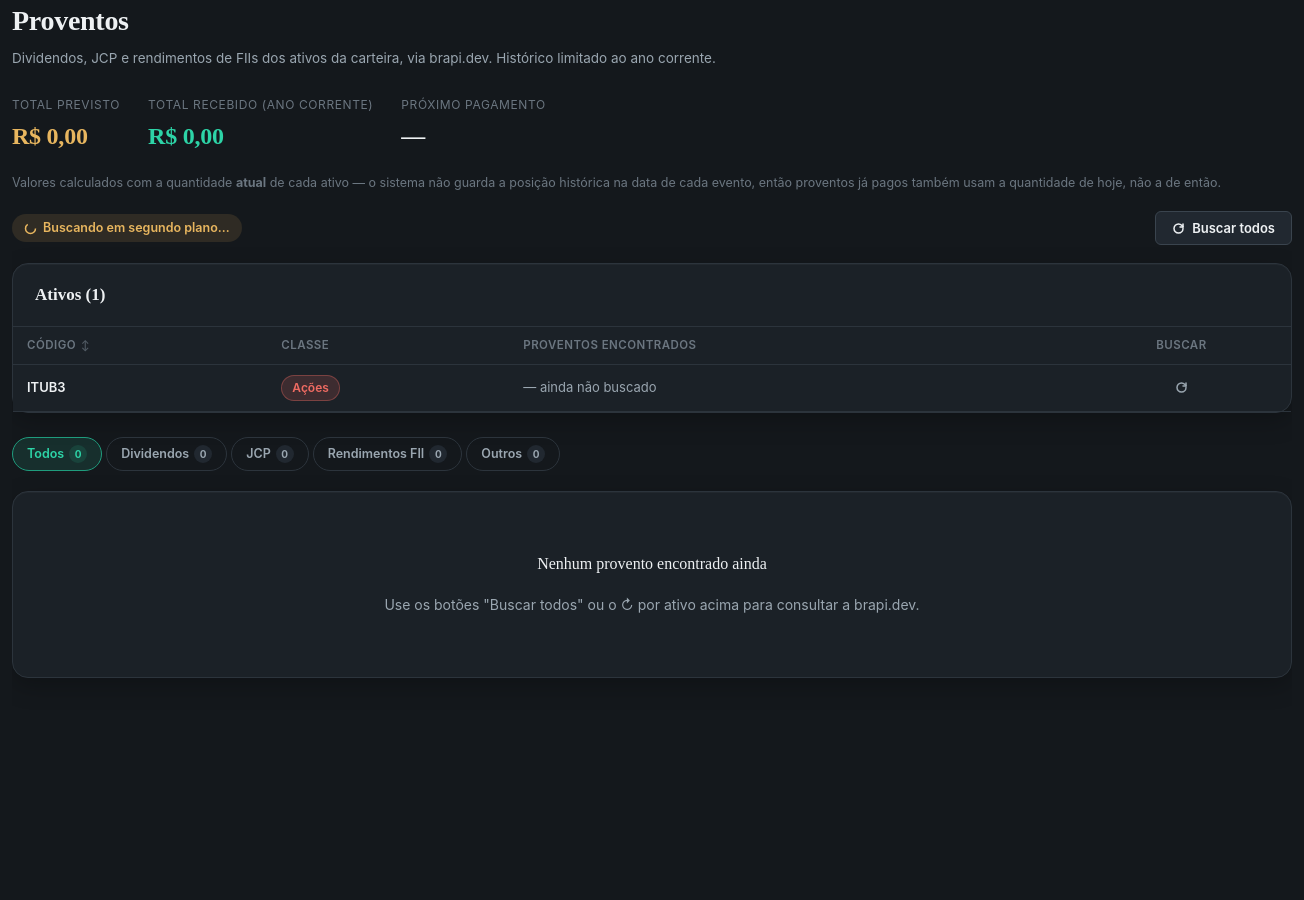
Test: Proventos — tabela de ativos (busca individual) › busca proventos de um único ativo ao clicar no botão da linha
This screenshot has width=1304, height=900.
Click the button titled "Buscar proventos de ITUB3". click: (1182,388)
box: x1=1168 y1=374 x2=1196 y2=402
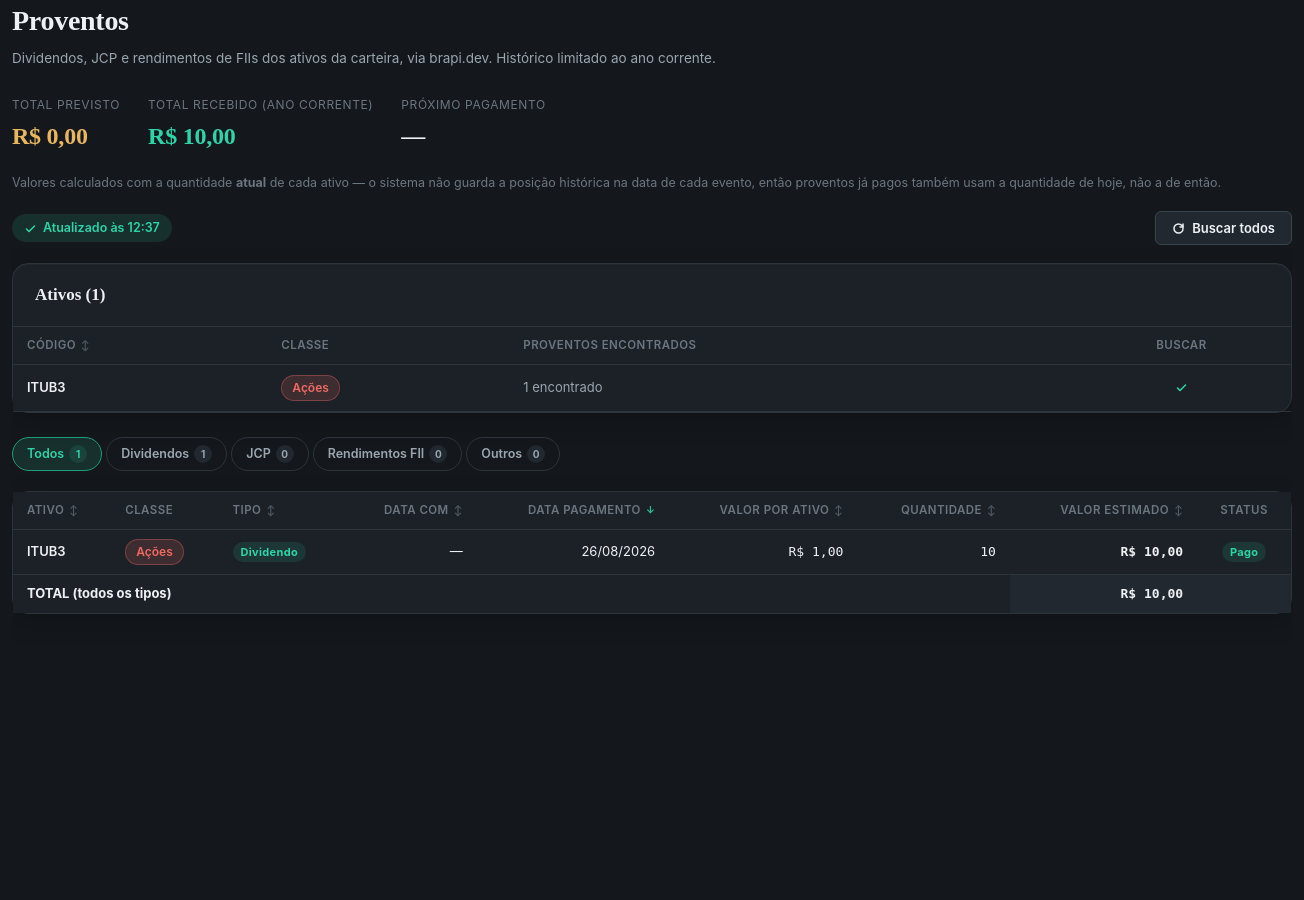
expect the text "1 encontrado" is shown: met, box x1=509 y1=364 x2=1072 y2=411
expect the text "ITUB3" in the row of "26/08/2026" is shown: met, box x1=27 y1=543 x2=66 y2=559
